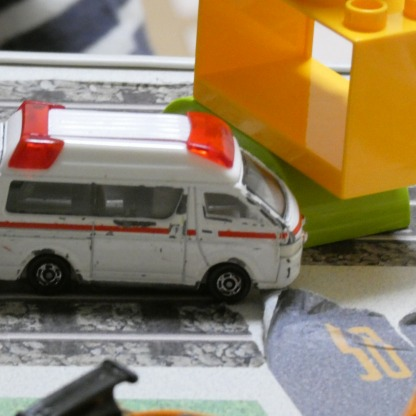car: (0, 99, 308, 302)
